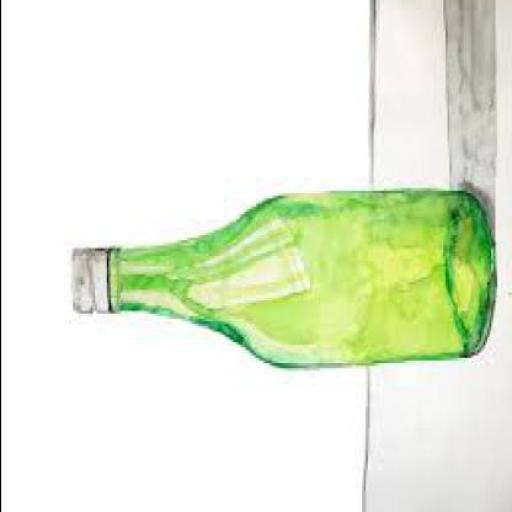glass: (70, 196, 492, 368)
metal: (66, 251, 104, 316)
